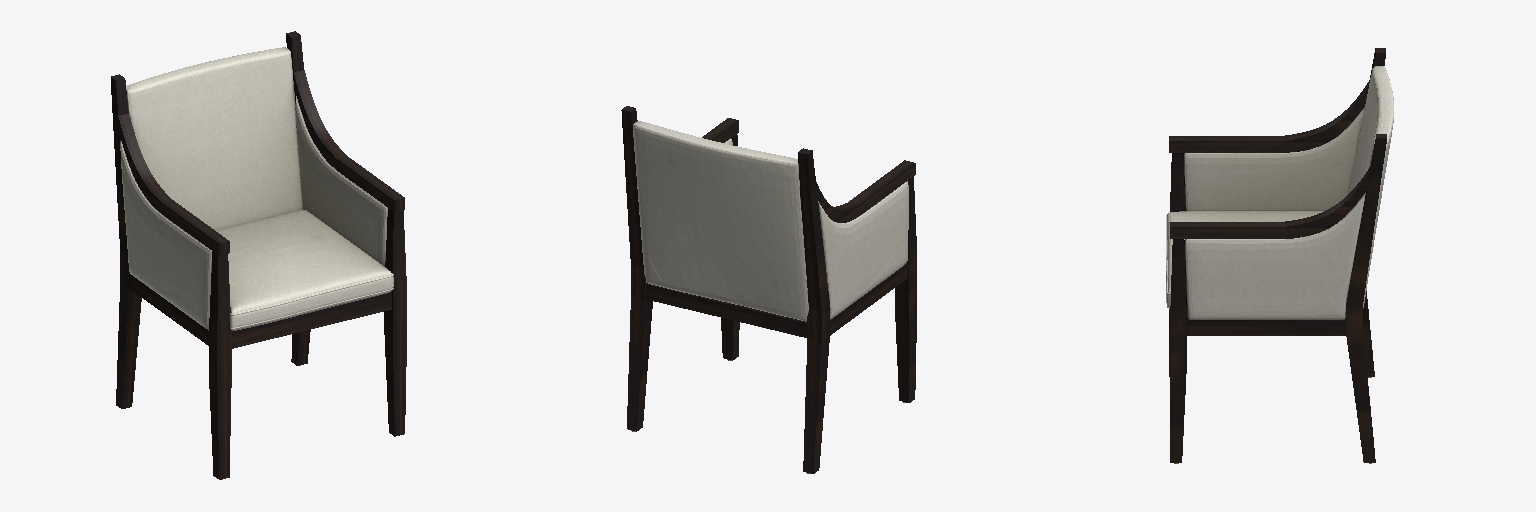
The picture shows the model from 3 angles: view 1: azimuth 30°, elevation 25°; view 2: azimuth 150°, elevation 25°; view 3: azimuth 270°, elevation 25°; orthographic projection.
Parts seen in each view (by area): view 1: solid_002, solid_001; view 2: solid_002, solid_001; view 3: solid_002, solid_001.
Boxes of the visible parts, box(x1,y1,x2,y2) form: solid_002: box(120, 47, 393, 330); solid_001: box(111, 31, 406, 479); solid_002: box(633, 121, 908, 321); solid_001: box(621, 106, 916, 473); solid_002: box(1166, 66, 1393, 319); solid_001: box(1169, 48, 1386, 462).
Size of the model in its own units: 0.9392 by 1.52 by 0.9657.
Materials: 1 (1 with a texture image).